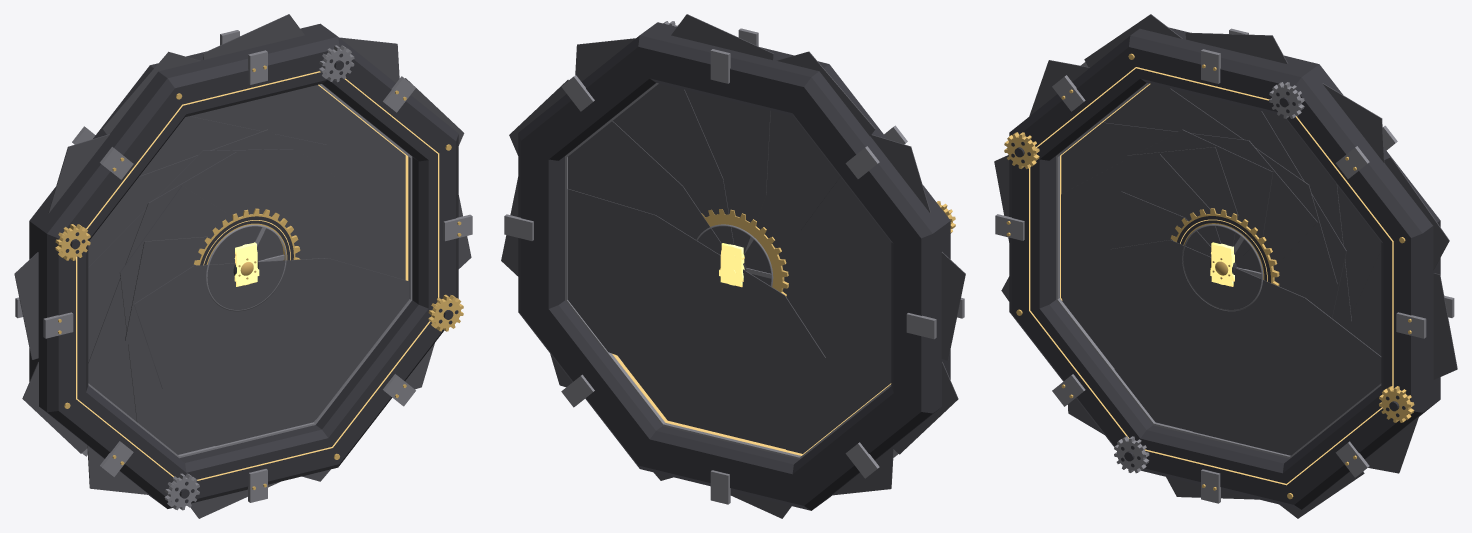
Rendered from gate.glb.
3 renders of one model, left to right at view 1: azimuth 30°, elevation 25°; view 2: azimuth 150°, elevation 25°; view 3: azimuth 330°, elevation 25°, orthographic.
Parts seen in each view (by area): view 1: frame-body, blade-mesh-11, blade-mesh-8, blade-mesh-9, blade-mesh-6, blade-mesh-7, blade-mesh-10, blade-mesh-5, blade-mesh-3, clamps, blade-mesh-4, blade-mesh-2 (+12 smaller); view 2: frame-body, blade-mesh-0, blade-mesh-2, blade-mesh-1, blade-mesh-3, blade-mesh-6, blade-mesh-5, blade-mesh-4, blade-mesh-7, clamps, blade-mesh-8, blade-mesh-9 (+4 smaller); view 3: frame-body, blade-mesh-11, blade-mesh-6, blade-mesh-5, blade-mesh-9, blade-mesh-10, blade-mesh-8, blade-mesh-7, blade-mesh-4, clamps, blade-mesh-3, blade-mesh-2 (+11 smaller).
Boxes of the visible parts, x1,y1,x2,y2 form: frame-body: (29, 23, 458, 508); blade-mesh-11: (134, 258, 434, 420); blade-mesh-8: (87, 152, 258, 494); blade-mesh-9: (119, 186, 280, 518); blade-mesh-6: (14, 129, 336, 359); blade-mesh-7: (22, 149, 293, 453); blade-mesh-10: (125, 236, 330, 481); blade-mesh-5: (48, 116, 355, 259); blade-mesh-3: (203, 14, 368, 267); clamps: (15, 30, 472, 502); blade-mesh-4: (102, 51, 363, 264); blade-mesh-2: (340, 37, 403, 252); frame-body: (518, 22, 950, 510); blade-mesh-0: (501, 177, 825, 405); blade-mesh-2: (575, 38, 734, 244); blade-mesh-1: (509, 79, 721, 384); blade-mesh-3: (671, 14, 773, 253); blade-mesh-6: (751, 252, 965, 360); blade-mesh-5: (746, 134, 930, 276); blade-mesh-4: (744, 51, 875, 265); blade-mesh-7: (795, 310, 958, 454); clamps: (504, 28, 964, 504); blade-mesh-8: (765, 370, 893, 495); blade-mesh-9: (698, 386, 791, 518); frame-body: (1009, 27, 1440, 509); blade-mesh-11: (1110, 239, 1419, 473); blade-mesh-6: (994, 122, 1317, 268); blade-mesh-5: (1029, 60, 1337, 291); blade-mesh-9: (1097, 154, 1258, 499); blade-mesh-10: (1102, 191, 1364, 518); blade-mesh-8: (1062, 147, 1238, 434); blade-mesh-7: (1001, 129, 1273, 301); blade-mesh-4: (1084, 14, 1346, 317); clamps: (995, 28, 1454, 503); blade-mesh-3: (1185, 32, 1351, 327); blade-mesh-2: (1322, 83, 1384, 328).
Size of the model in its own units: 8.34 by 8.34 by 1.06.
